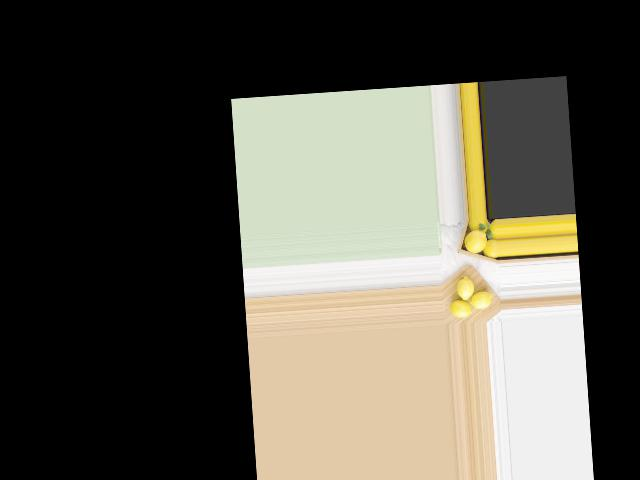lemon: (445, 294, 472, 320)
